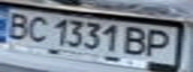1: (100, 21, 124, 53), (48, 16, 69, 46)
3: (81, 20, 103, 52), (63, 18, 84, 50)
B: (121, 25, 154, 58), (3, 10, 33, 40)
C: (21, 14, 51, 43)
P: (139, 27, 178, 57)
